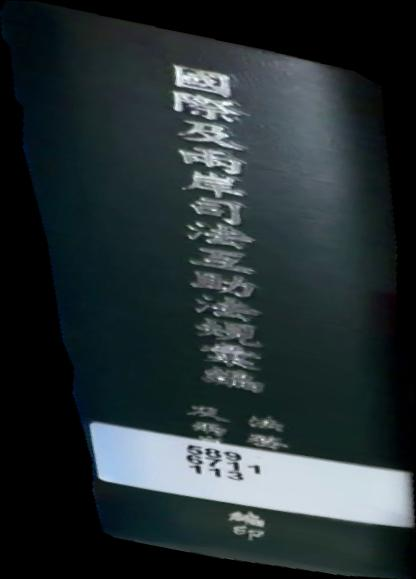book: (1, 1, 416, 579)
